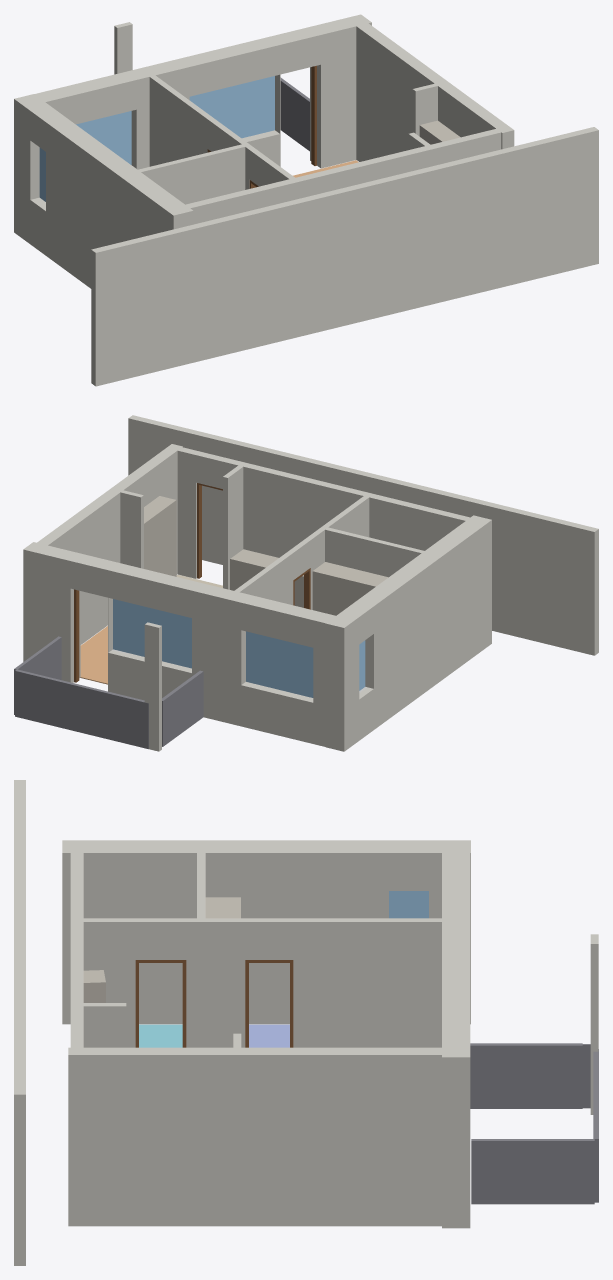
3 views of the same model, one above another, from view 1: azimuth 30°, elevation 25°; view 2: azimuth 150°, elevation 25°; view 3: azimuth 270°, elevation 25° (orthographic). The views are drawn at different scales.
Parts seen in each view (by area): view 1: walls, window_2, railings, window_0, furniture_1_closet, door_3; view 2: walls, railings, window_0, window_2, furniture_0_closet, furniture_1_closet, floor_1_Living_Room, furniture_4_appliance, door_3, door_4; view 3: walls, railings, window_1, floor_4_Bath, floor_0_Bed_Room, door_5, door_6, furniture_0_closet, furniture_2_closet.
Boxes of the visible parts, x1,y1,x2,y2 form: walls: [14, 14, 598, 386]; window_2: [189, 76, 274, 138]; railings: [280, 77, 309, 151]; window_0: [76, 111, 131, 164]; furniture_1_closet: [419, 120, 460, 144]; door_3: [311, 65, 316, 165]; walls: [23, 415, 598, 751]; railings: [14, 636, 203, 749]; window_0: [246, 631, 313, 697]; window_2: [113, 599, 191, 668]; furniture_0_closet: [312, 562, 388, 615]; furniture_1_closet: [144, 496, 176, 576]; floor_1_Living_Room: [80, 626, 107, 684]; furniture_4_appliance: [230, 549, 278, 590]; door_3: [74, 589, 79, 682]; door_4: [197, 483, 222, 578]; walls: [14, 780, 598, 1265]; railings: [470, 1043, 598, 1204]; window_1: [389, 891, 428, 918]; floor_4_Bath: [139, 1024, 182, 1047]; floor_0_Bed_Room: [249, 1024, 289, 1047]; door_5: [135, 960, 186, 1047]; door_6: [245, 960, 293, 1047]; furniture_0_closet: [205, 897, 240, 918]; furniture_2_closet: [83, 970, 105, 1002].
Size of the model in its own units: 10.64 by 2.72 by 8.36.
